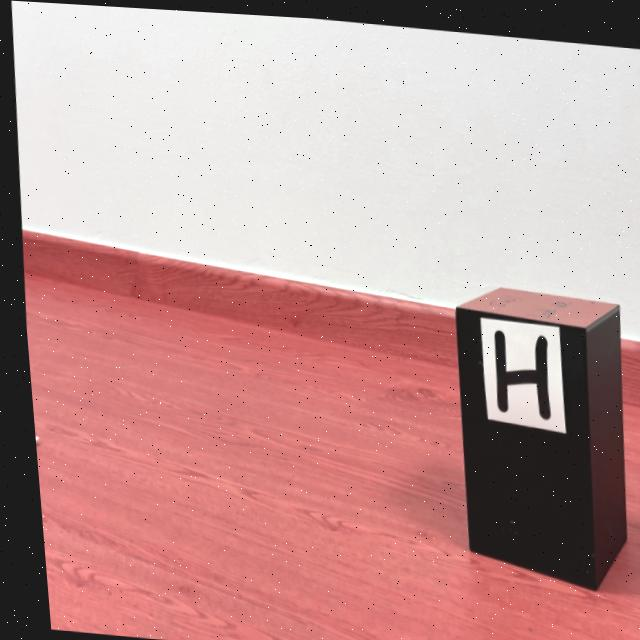H: (489, 324, 544, 413)
